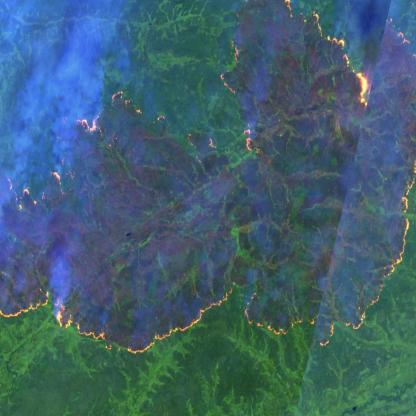fire: (0, 0, 416, 360)
